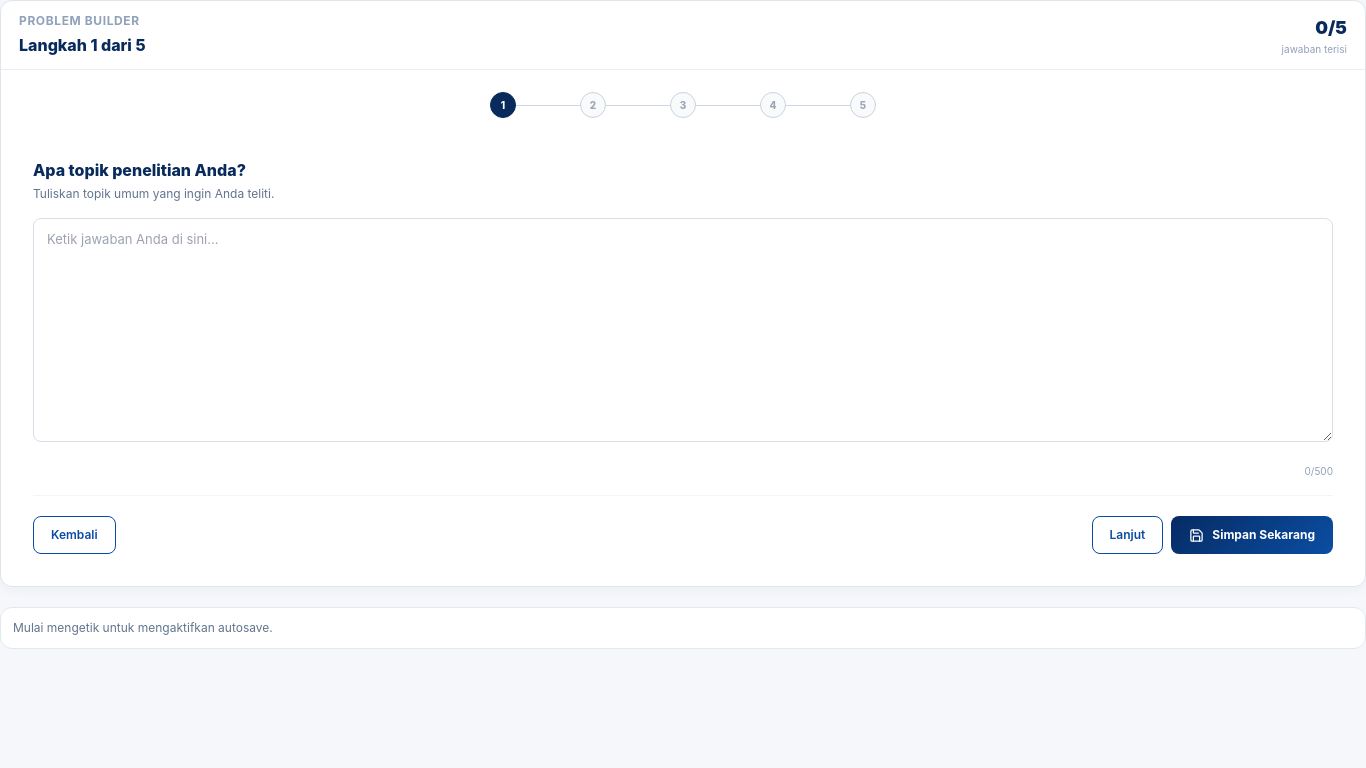
Test: Problem Builder autosave › offers a login path instead of retrying when the session expires
Type "Topik dengan sesi kedaluwarsa" into the text box named "Apa topik penelitian Anda?" at (683, 330), box [33,218,1333,442]
Wait 1200 ms
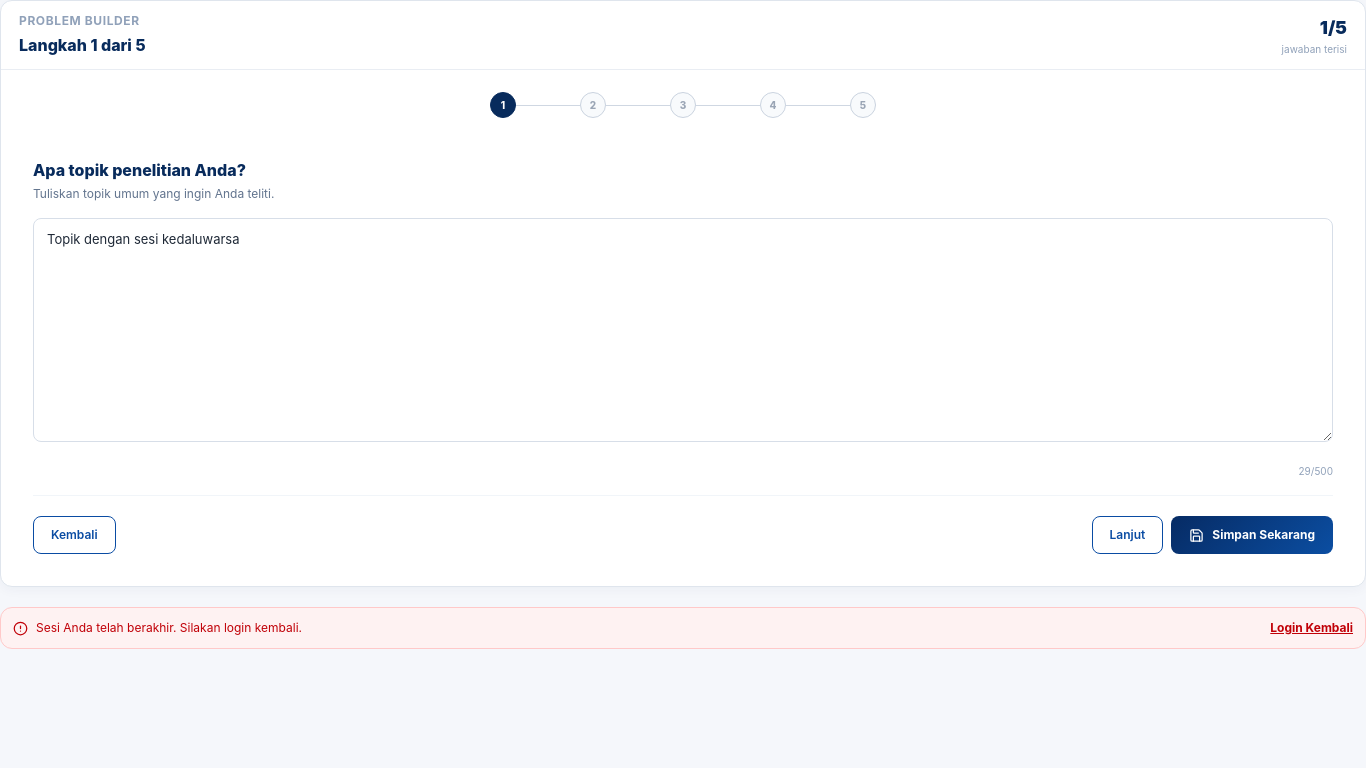
Now the text "Sesi Anda telah berakhir. Silakan login kembali." is shown, box [36,620,302,635]
